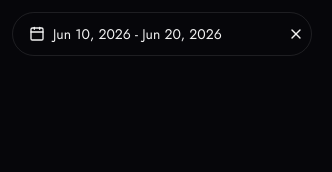
Test case: DateRangePicker › clears the selected range when the clear button is clicked
Click the button named "clear date range": (296, 34) left=288, top=26, right=304, bottom=42
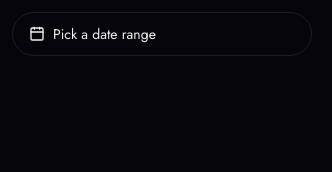
Result: the dropdown reads "Pick a date range" at left=12, top=12, right=312, bottom=56
